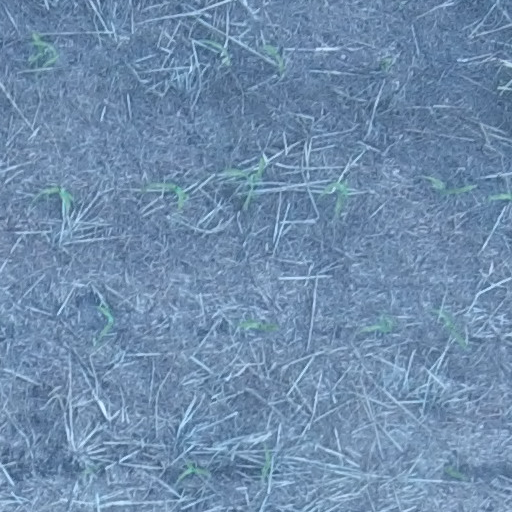planta: (222, 157, 265, 208), (138, 182, 189, 212), (433, 307, 467, 349), (319, 179, 351, 218), (28, 185, 75, 210), (199, 39, 232, 66), (178, 454, 209, 482), (94, 305, 114, 346), (429, 178, 478, 194), (236, 317, 283, 333), (31, 41, 58, 67), (360, 314, 395, 334), (263, 44, 285, 74), (28, 34, 45, 65), (257, 445, 271, 479), (442, 466, 469, 483)
